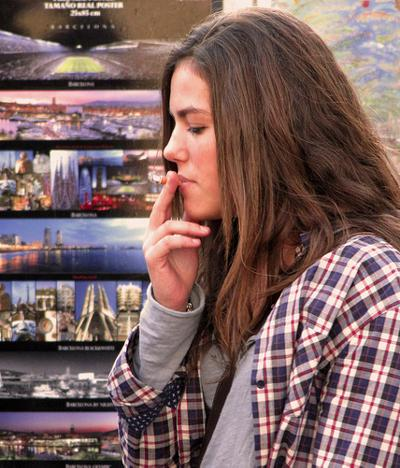person: (104, 7, 400, 467)
